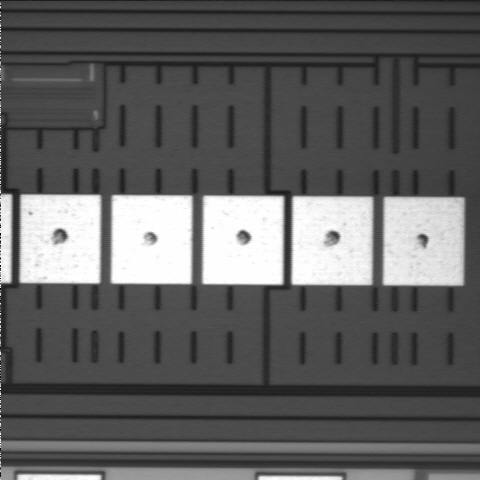pad: (202, 196, 284, 285), (111, 195, 192, 284), (292, 196, 373, 285), (20, 195, 101, 283), (383, 197, 464, 285)
